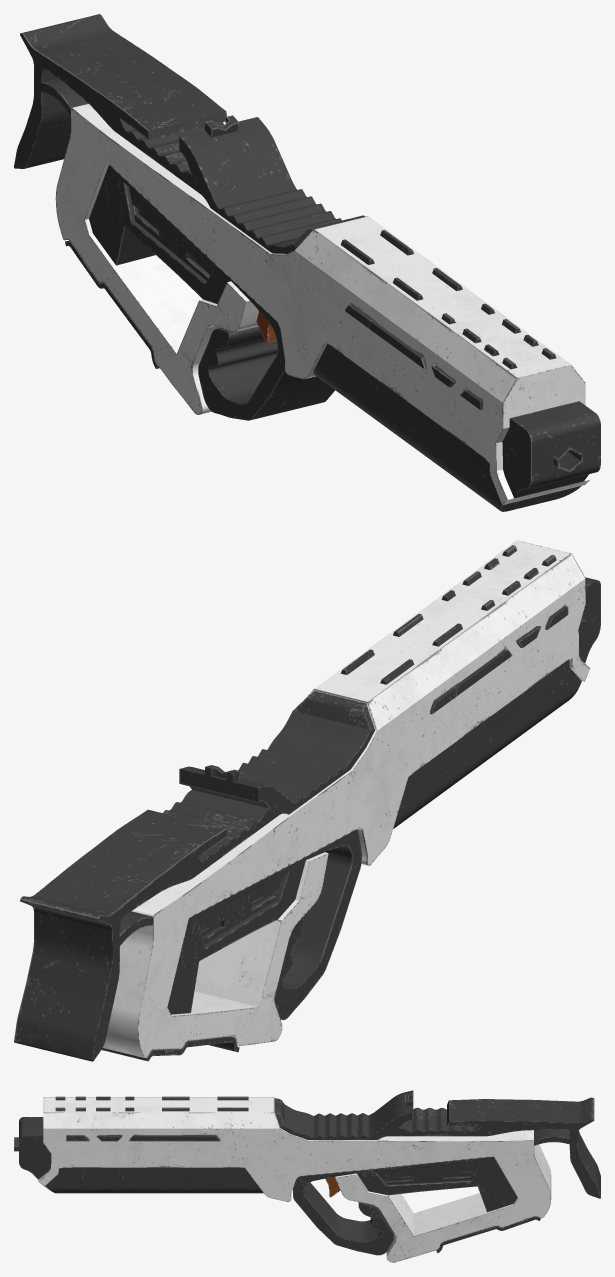
Rendered from GLB_Test_Riffle.glb.
3 renders of one model, top to bottom at view 1: azimuth 30°, elevation 25°; view 2: azimuth 150°, elevation 25°; view 3: azimuth 270°, elevation 25°, orthographic. The views are drawn at different scales.
Visible parts, largest first — view 1: SM_Rifle, SM_Rifle.001; view 2: SM_Rifle, SM_Rifle.001; view 3: SM_Rifle.001, SM_Rifle.
Boxes of the visible parts, x1,y1,x2,y2 form: SM_Rifle: (14, 14, 600, 511); SM_Rifle.001: (55, 103, 590, 505); SM_Rifle: (14, 545, 600, 1061); SM_Rifle.001: (103, 540, 590, 1058); SM_Rifle.001: (38, 1097, 551, 1262); SM_Rifle: (14, 1090, 600, 1255).
Size of the model in its own units: 0.1018 by 0.3034 by 1.04.
3 materials, 3 textured.
